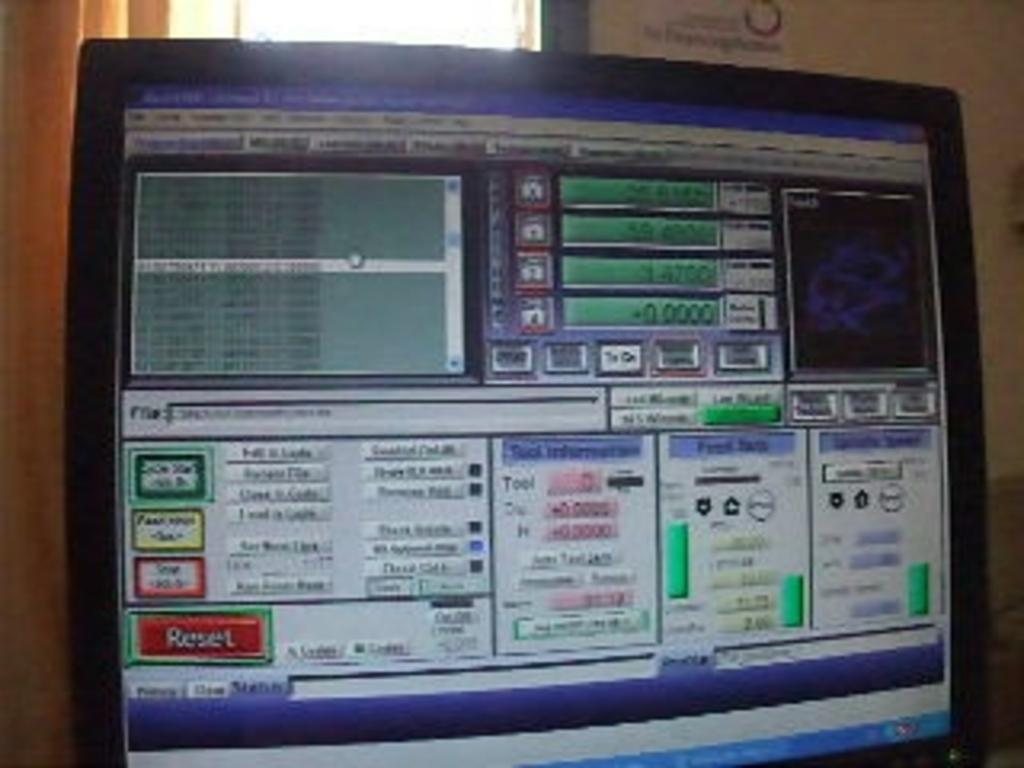Laptop: (62, 33, 992, 767)
